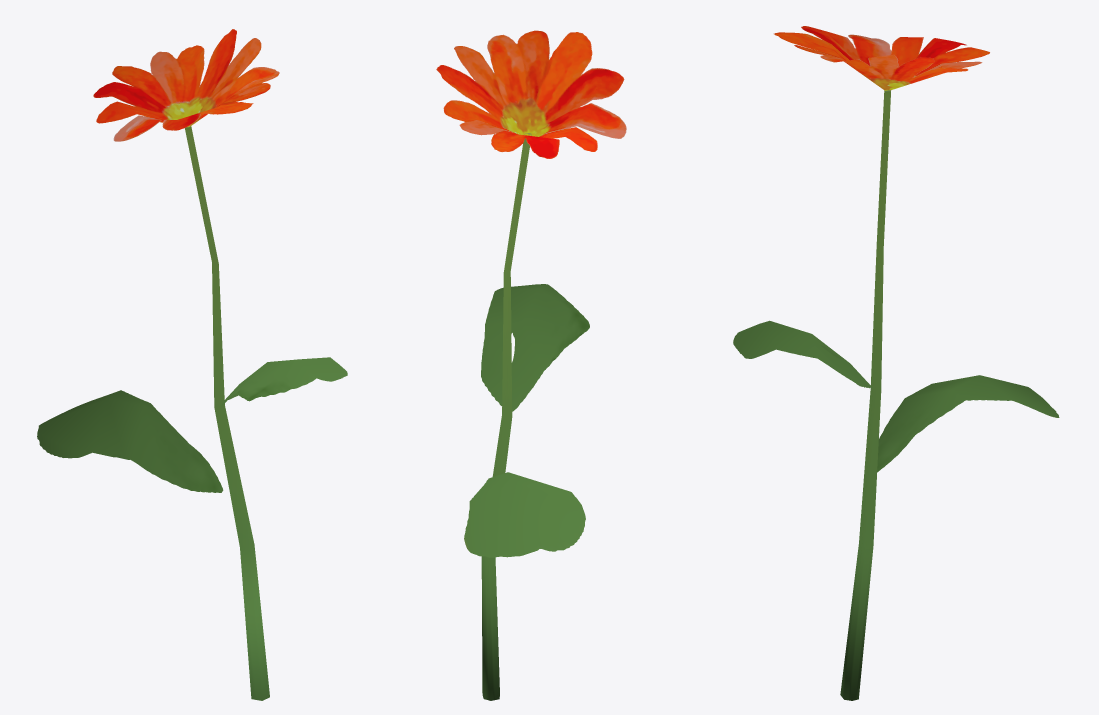
Rendered from FlowerE_VAR_b.fbx.
3 views of the same model, side by side, from view 1: azimuth 30°, elevation 25°; view 2: azimuth 150°, elevation 25°; view 3: azimuth 270°, elevation 25° (orthographic). The views are drawn at different scales.
Parts seen in each view (by area): view 1: FlowerE_VAR_bLOD0; view 2: FlowerE_VAR_bLOD0; view 3: FlowerE_VAR_bLOD0.
Part boxes in pixels (x1=…): FlowerE_VAR_bLOD0: x1=37, y1=29, x2=347, y2=700; FlowerE_VAR_bLOD0: x1=436, y1=30, x2=626, y2=700; FlowerE_VAR_bLOD0: x1=733, y1=26, x2=1059, y2=700.
Size of what is drawn, in the model's own units: 25.21 by 67.67 by 36.15.
